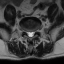CCS_normal: (29, 29, 31, 38)
LFS_stenosis: (34, 28, 36, 35)
LLS_normal: (32, 29, 34, 37)
RFS_severe_stenosis: (24, 29, 26, 35)
RLS_normal: (27, 29, 29, 36)
